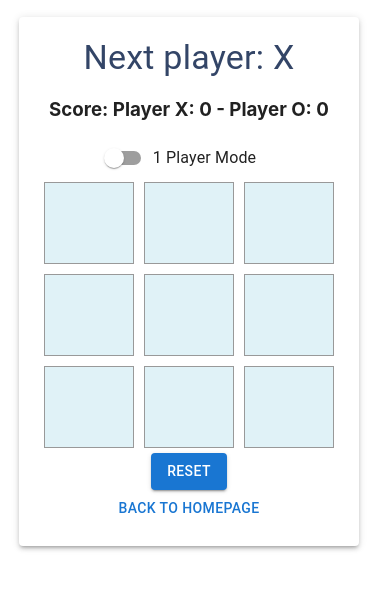
it: renders TicTacToe component
This screenshot has width=379, height=615.
Expected: the heading "Next player: X" is shown, [83,37,295,79]
Expected: the button "Reset" is shown, [151,453,227,490]
// Test clicking on squares
Click the element with test id "square-0" at (89, 223), box [44,182,134,264]
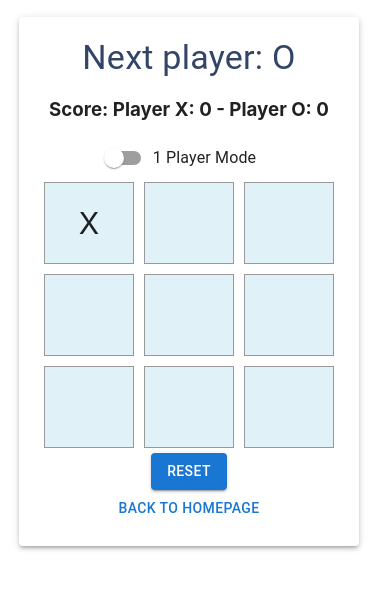
Expected: the text with test id "square-0" reads "X", [79,205,99,241]
Click the element with test id "square-1" at (189, 223), box [144,182,234,264]
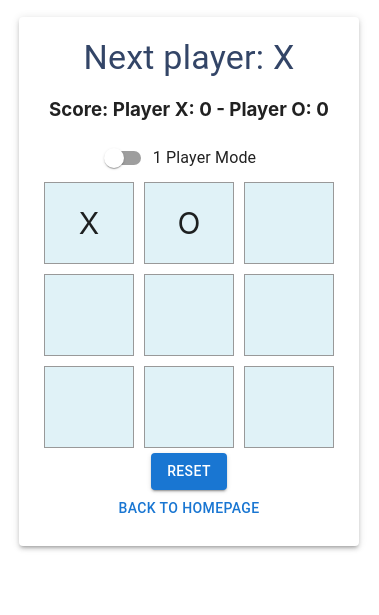
Expected: the text with test id "square-1" reads "O", [178,205,200,241]
// Test winning condition
Click the element with test id "square-3" at (89, 315), box [44,274,134,356]
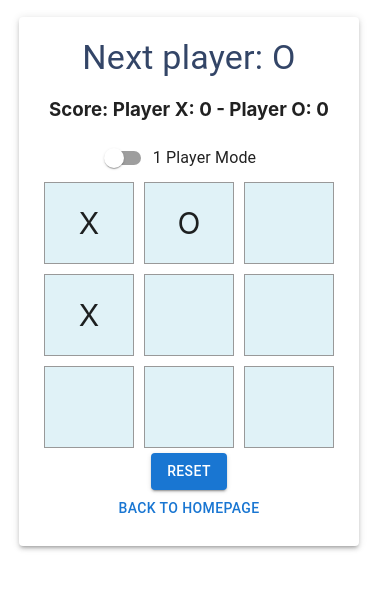
Expected: the text with test id "square-3" reads "X", [79,297,99,333]
Click the element with test id "square-4" at (189, 315), box [144,274,234,356]
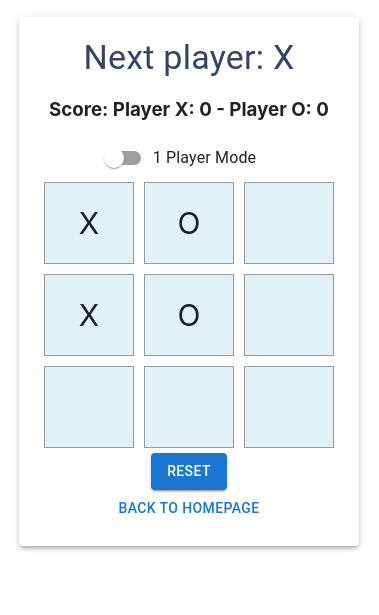
Expected: the text with test id "square-4" reads "O", [178,297,200,333]
Click the element with test id "square-6" at (89, 407), box [44,366,134,448]
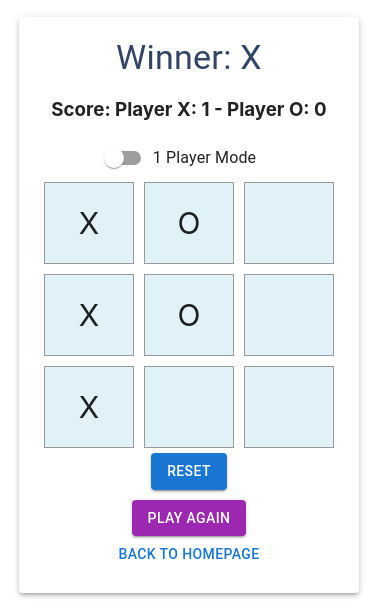
Expected: the text with test id "square-6" reads "X", [79,389,99,425]
Expected: the heading "Winner: X" is shown, [116,37,262,79]
// Test reset button
Click the button "Reset" at (189, 472), box [151,453,227,490]
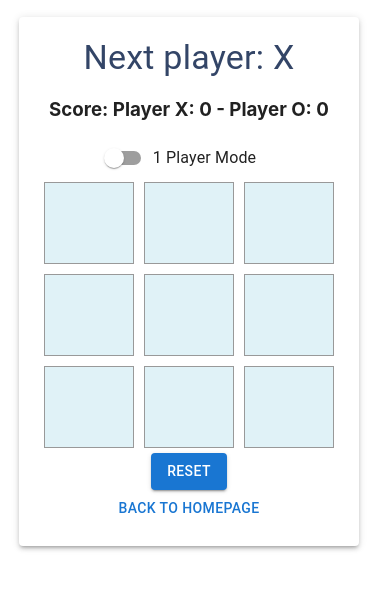
Expected: the element with test id "square-0" is empty, [44,182,134,264]
Expected: the element with test id "square-1" is empty, [144,182,234,264]
Expected: the element with test id "square-3" is empty, [44,274,134,356]
